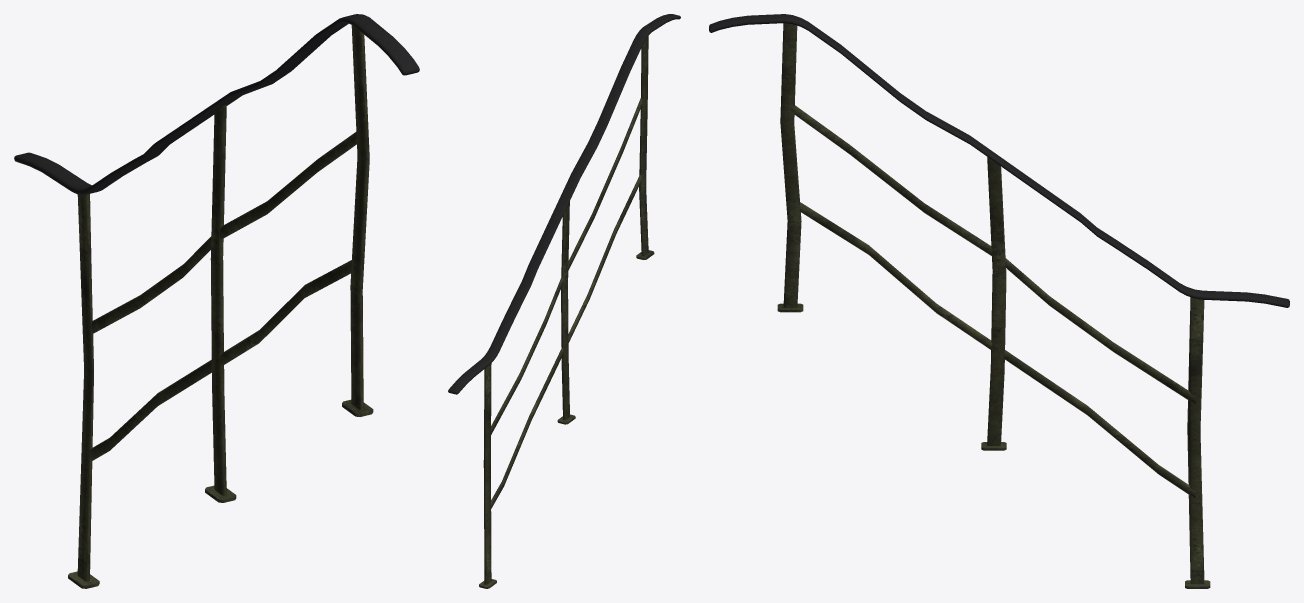
Rendered from hand_rail_1.glb.
3 renders of one model, left to right at view 1: azimuth 30°, elevation 25°; view 2: azimuth 150°, elevation 25°; view 3: azimuth 270°, elevation 25°, orthographic. The views are drawn at different scales.
Visible parts, largest first — view 1: hand_rail_1; view 2: hand_rail_1; view 3: hand_rail_1.
Boxes of the visible parts, <box> form: hand_rail_1: <box>14,14,419,588</box>; hand_rail_1: <box>448,14,680,588</box>; hand_rail_1: <box>709,14,1289,588</box>.
Size of the model in its own units: 0.06 by 2.47 by 2.28.
Materials: 2 (2 with a texture image).
